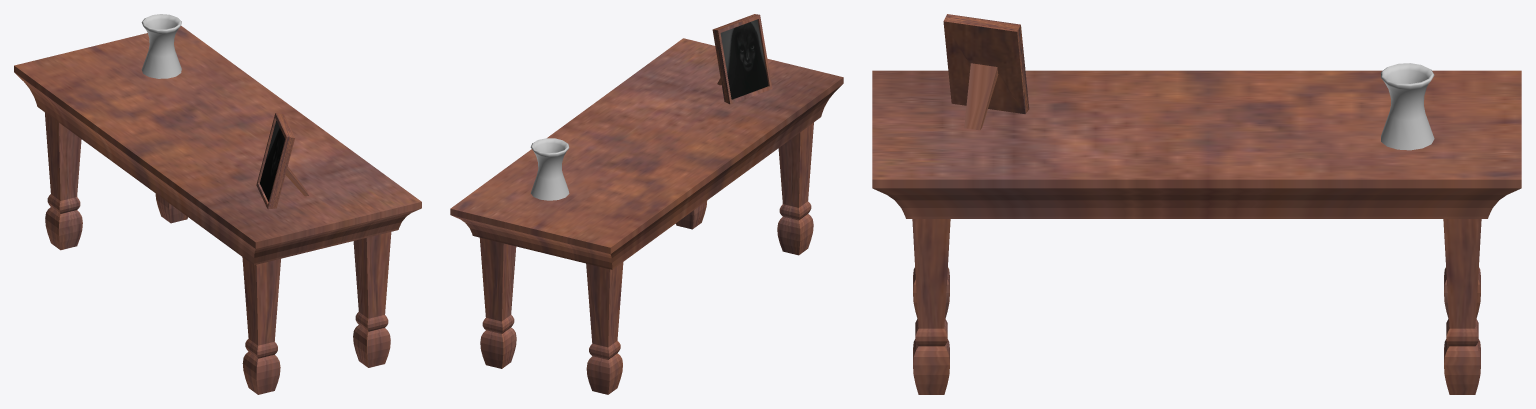
File: SmallLongTable.fbx
The picture shows the model from 3 angles, left to right: view 1: azimuth 30°, elevation 25°; view 2: azimuth 150°, elevation 25°; view 3: azimuth 270°, elevation 25°; orthographic projection. The views are drawn at different scales.
Parts seen in each view (by area): view 1: LittleTableDining.001; view 2: LittleTableDining.001; view 3: LittleTableDining.001.
Part boxes in pixels (bbox=[...]): LittleTableDining.001: bbox=[14, 14, 421, 394]; LittleTableDining.001: bbox=[450, 14, 843, 394]; LittleTableDining.001: bbox=[872, 14, 1521, 394].
Bounding box in the file's own units: 57.71 × 79.88 × 145.
